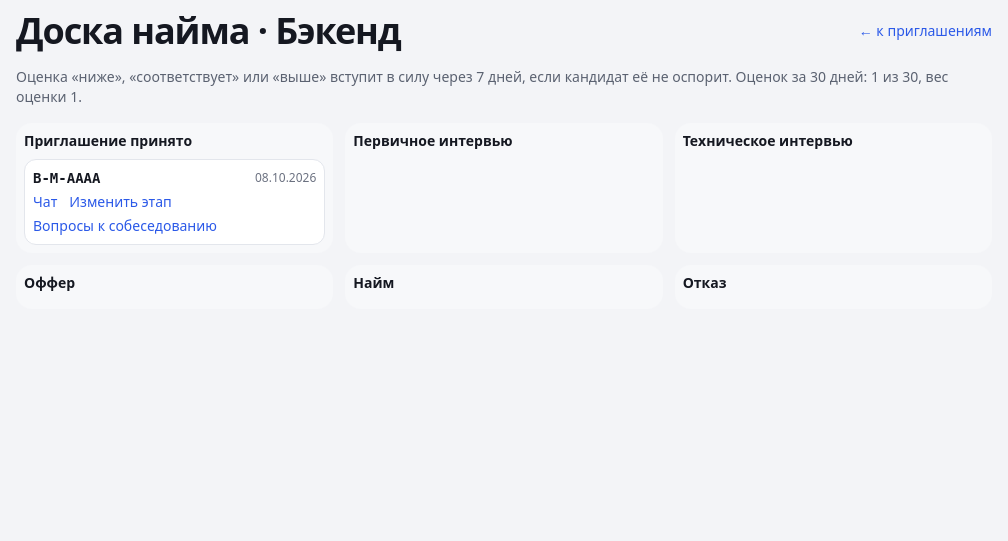
Test: BoardPage › without a known grade the level question does not name one
Click the button "Изменить этап". click: [121, 202]
box: [69,192,172,212]
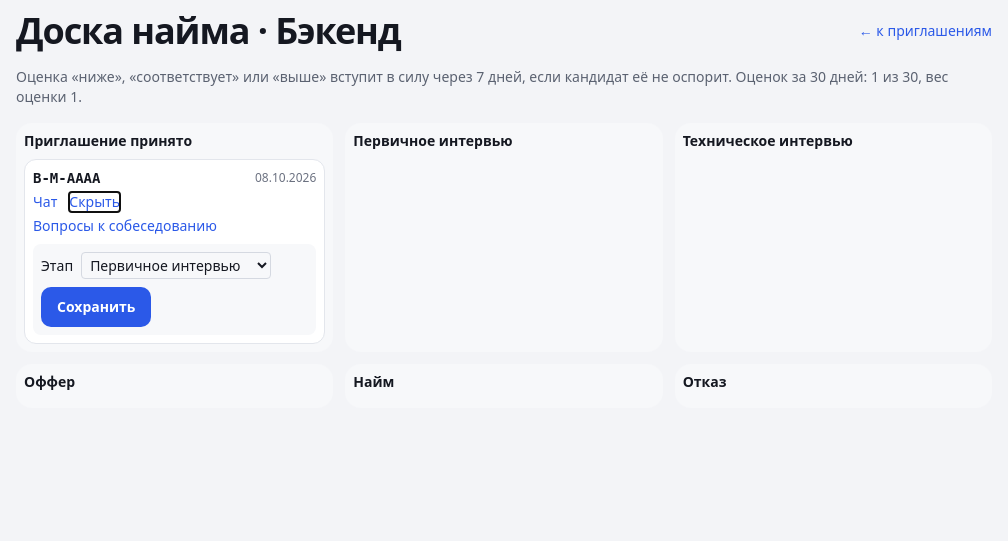
Select "Техническое интервью" in the dropdown labelled "Этап". click: [176, 266]
box: [81,252,271,279]
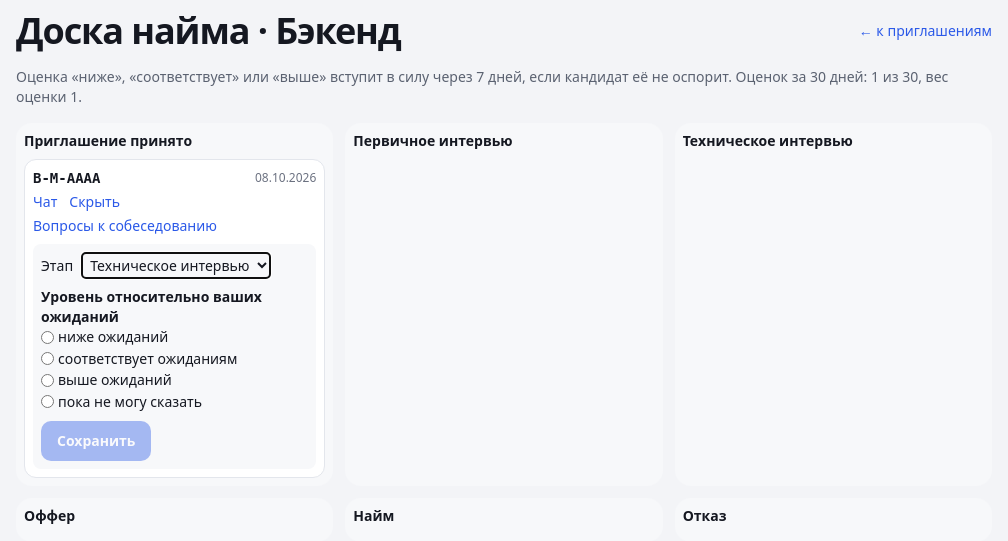
Check: the text "Уровень относительно ваших ожиданий" is shown, box [41,287,262,326]
